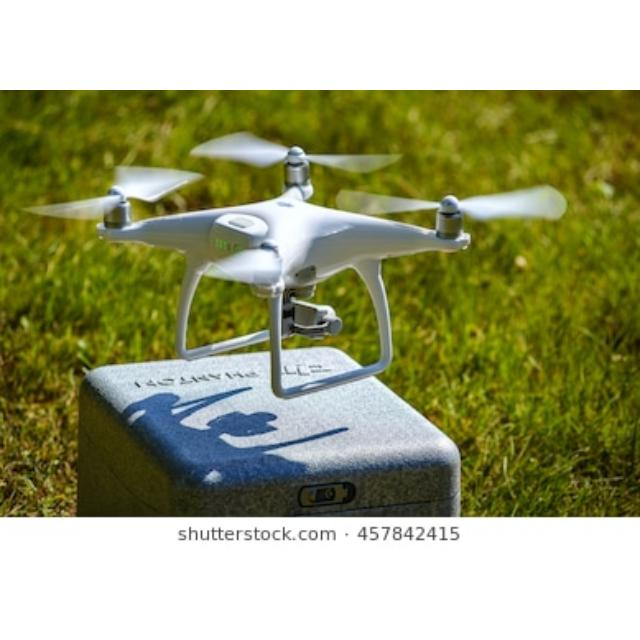Drones: (110, 158, 467, 394)
